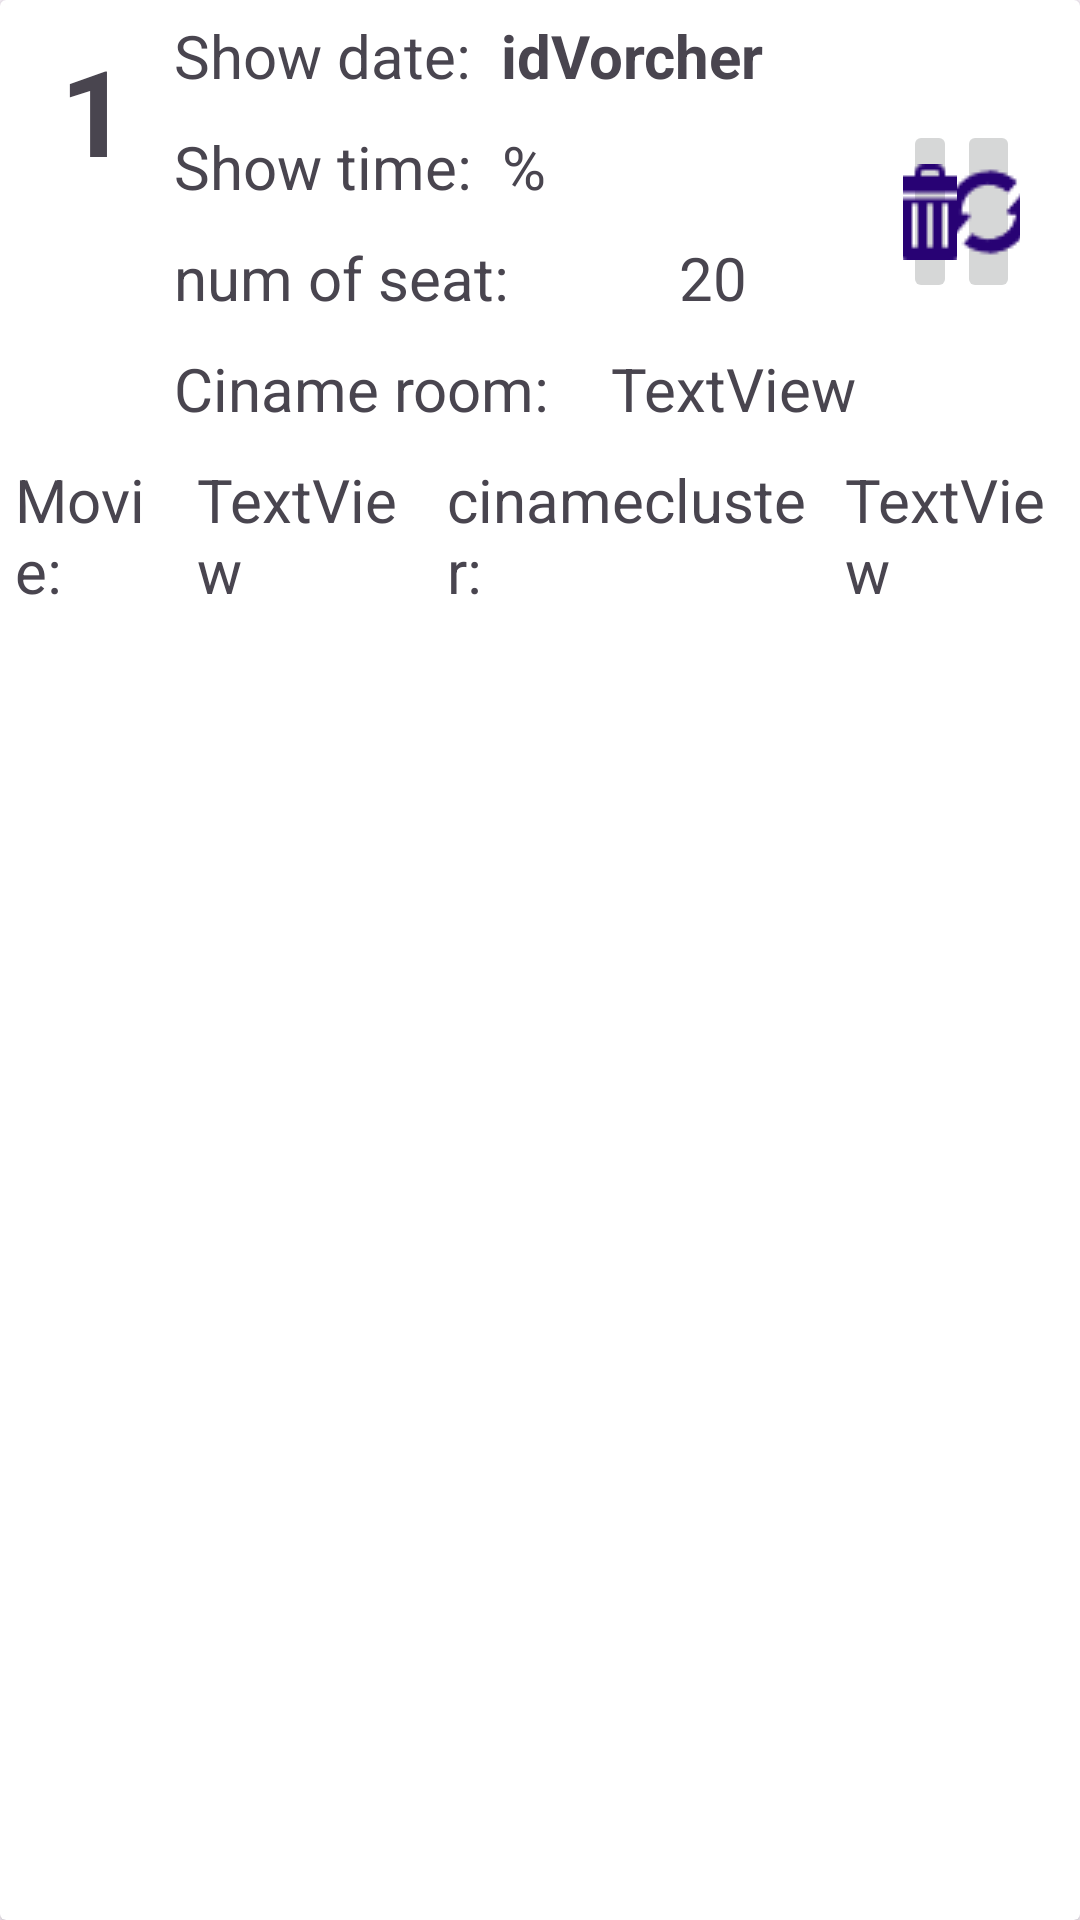

Named icons in this screenshot (1080x1920) and their bounding boxes, [x1,y1,x2,y2]:
refresh: [957,138,1020,285]
trash: [903,138,957,285]
